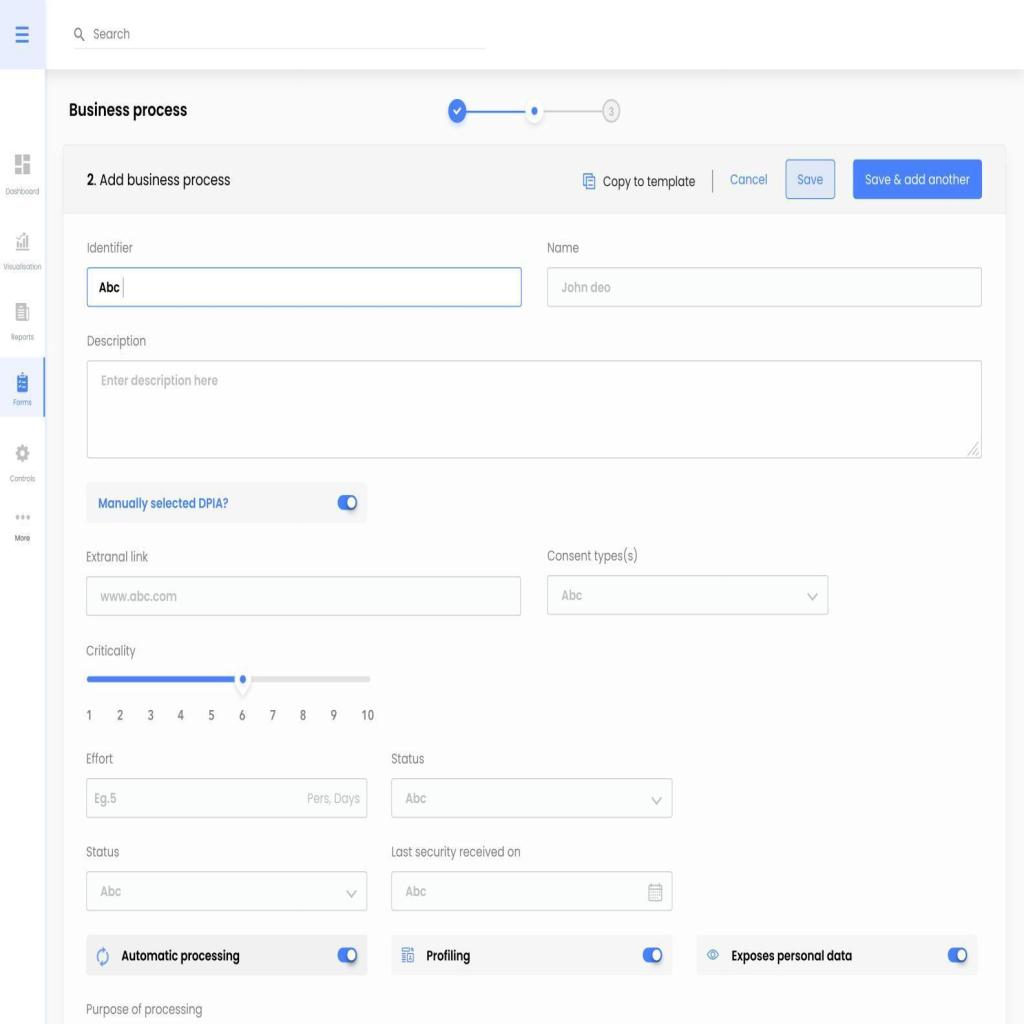button: (852, 158, 983, 200), (786, 159, 836, 199)
dropdown: (87, 870, 366, 912), (547, 575, 828, 615), (392, 779, 673, 818)
icon: (14, 151, 33, 178), (13, 440, 33, 465), (13, 299, 32, 324), (580, 167, 598, 192), (13, 228, 31, 252), (400, 941, 416, 967), (16, 370, 30, 396), (13, 24, 30, 45), (95, 947, 109, 967), (74, 26, 86, 44), (14, 514, 34, 523), (707, 947, 719, 961)
input: (86, 576, 521, 617), (548, 267, 982, 308), (86, 267, 522, 307), (391, 870, 672, 910), (86, 780, 368, 817)
label: (93, 486, 236, 520), (68, 94, 196, 129), (88, 168, 237, 194), (390, 840, 520, 864), (84, 998, 203, 1020), (114, 948, 248, 967), (732, 948, 853, 964), (601, 172, 700, 191), (78, 546, 155, 569), (84, 330, 152, 352), (84, 639, 140, 660), (427, 944, 472, 966), (727, 172, 771, 190), (87, 239, 135, 255), (80, 748, 119, 767), (386, 750, 426, 768), (2, 184, 42, 200), (88, 844, 122, 862), (546, 240, 580, 257), (2, 261, 42, 273), (9, 472, 38, 485), (8, 332, 36, 343), (12, 399, 34, 407), (13, 535, 31, 542)
switch: (338, 493, 357, 514), (337, 947, 358, 964), (643, 948, 663, 964), (948, 948, 968, 964)
